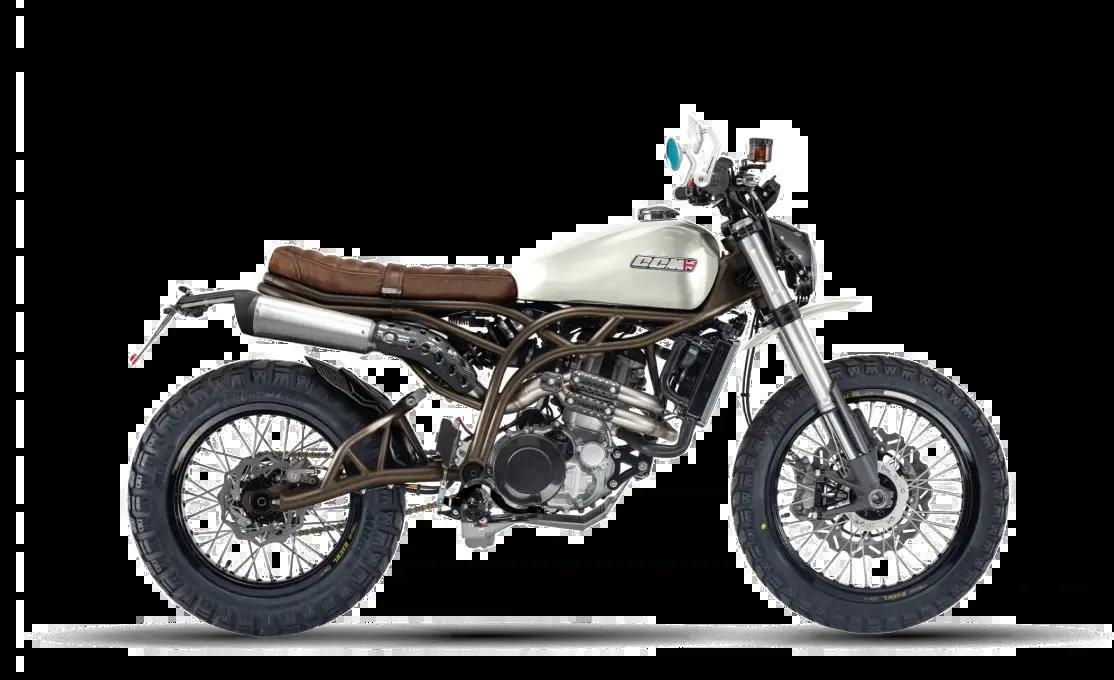motorcycle: (117, 97, 1032, 655)
